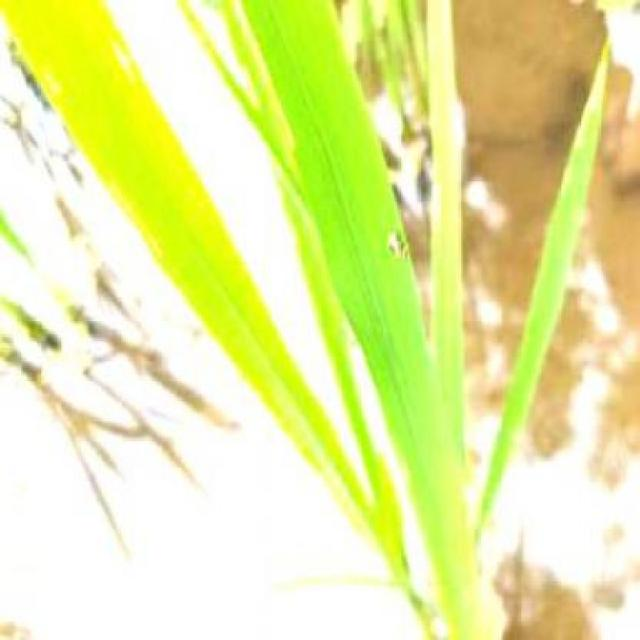rice-bug: (381, 222, 414, 266)
